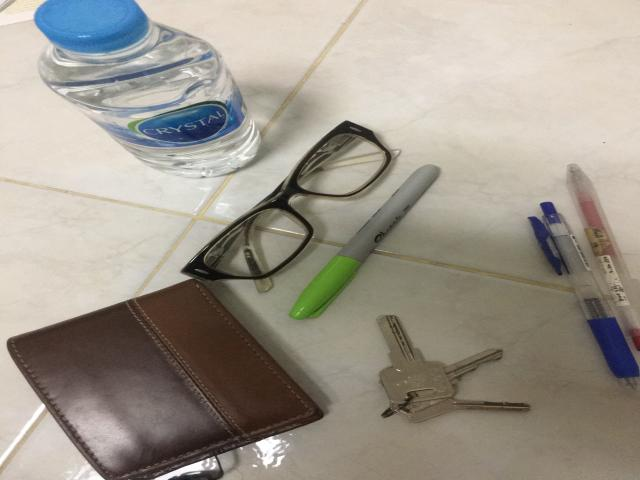Glasses: (182, 121, 393, 280)
Keys: (377, 315, 530, 423)
Pen: (290, 165, 440, 319), (528, 202, 638, 385), (567, 164, 640, 351)
Wallet: (7, 279, 323, 480)
bottle: (33, 0, 260, 177)
